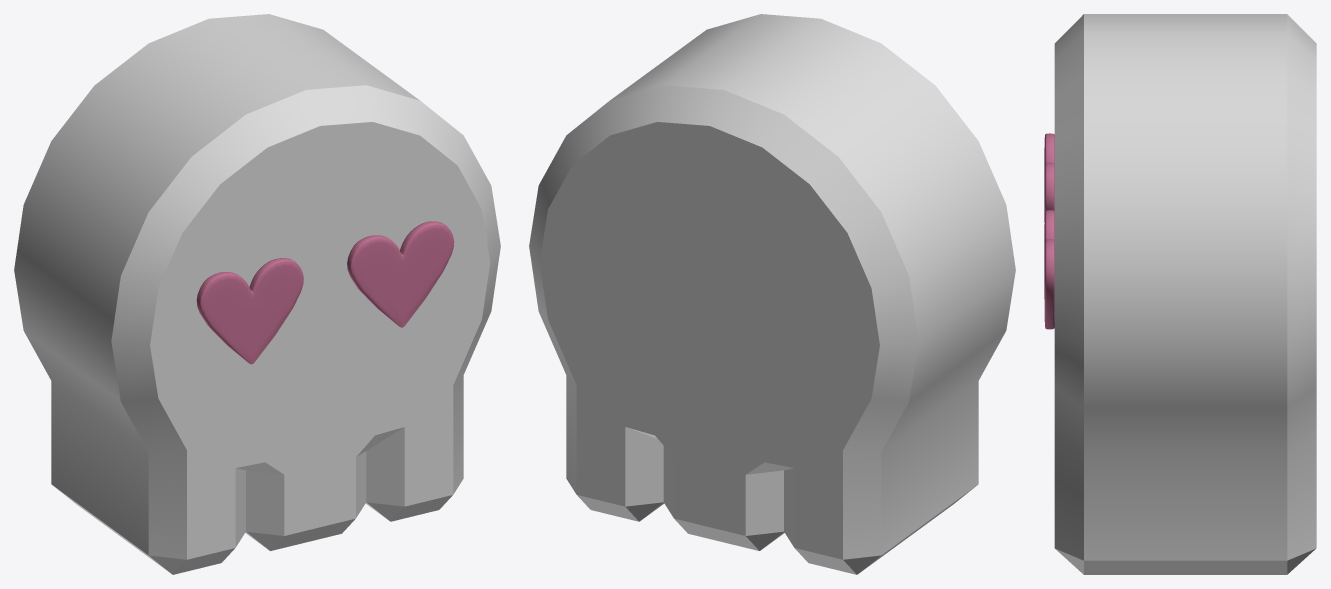
The model's file is Skeleton.fbx.
The picture shows the model from 3 angles, left to right: view 1: azimuth 30°, elevation 25°; view 2: azimuth 150°, elevation 25°; view 3: azimuth 270°, elevation 25°; orthographic projection. The views are drawn at different scales.
Visible parts, largest first — view 1: Skeleton; view 2: Skeleton; view 3: Skeleton.
Part boxes in pixels (bbox=[...]): Skeleton: bbox=[14, 14, 500, 574]; Skeleton: bbox=[529, 14, 1015, 574]; Skeleton: bbox=[1044, 14, 1316, 574].
Bounding box in the file's own units: 2 × 2.22 × 1.16.
